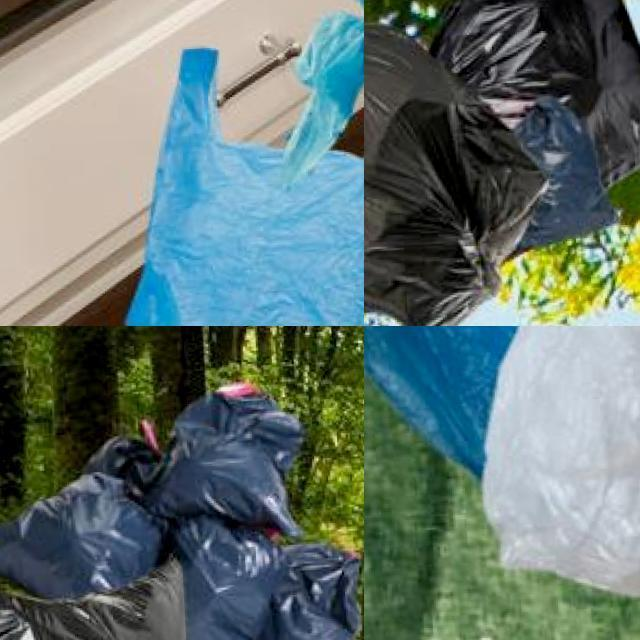waste: (116, 34, 364, 326), (364, 0, 549, 326), (459, 326, 640, 609), (441, 0, 640, 210), (364, 326, 640, 472), (148, 388, 310, 528), (0, 468, 156, 600), (157, 525, 282, 640), (271, 538, 364, 640)
